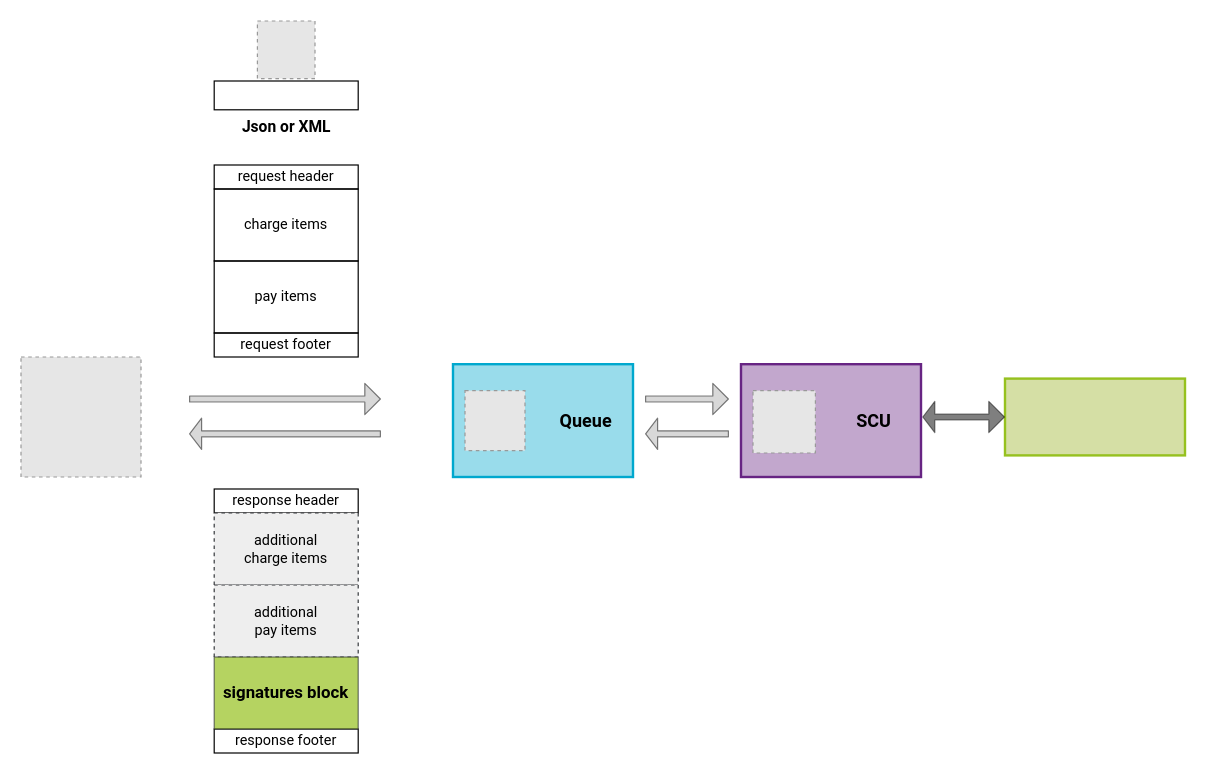
Some shapes in this 1207 by 774 pixel diagram are drawn without their labels. Grey dashed boxes stand in for pictures. Here are the shapes that lost their labels. From the top down, the box of each, then its label:
(213, 80, 358, 110): sign-Request
(1003, 377, 1186, 456): SSCD
